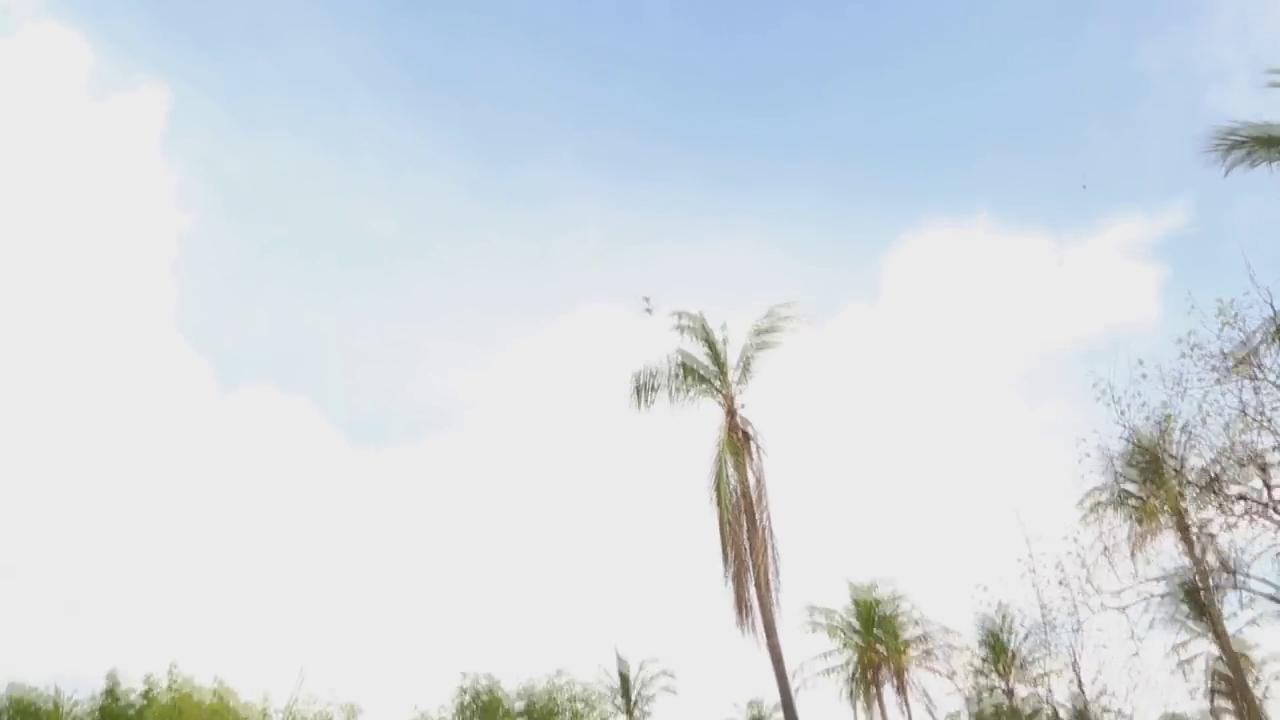drone: (637, 296, 663, 320)
